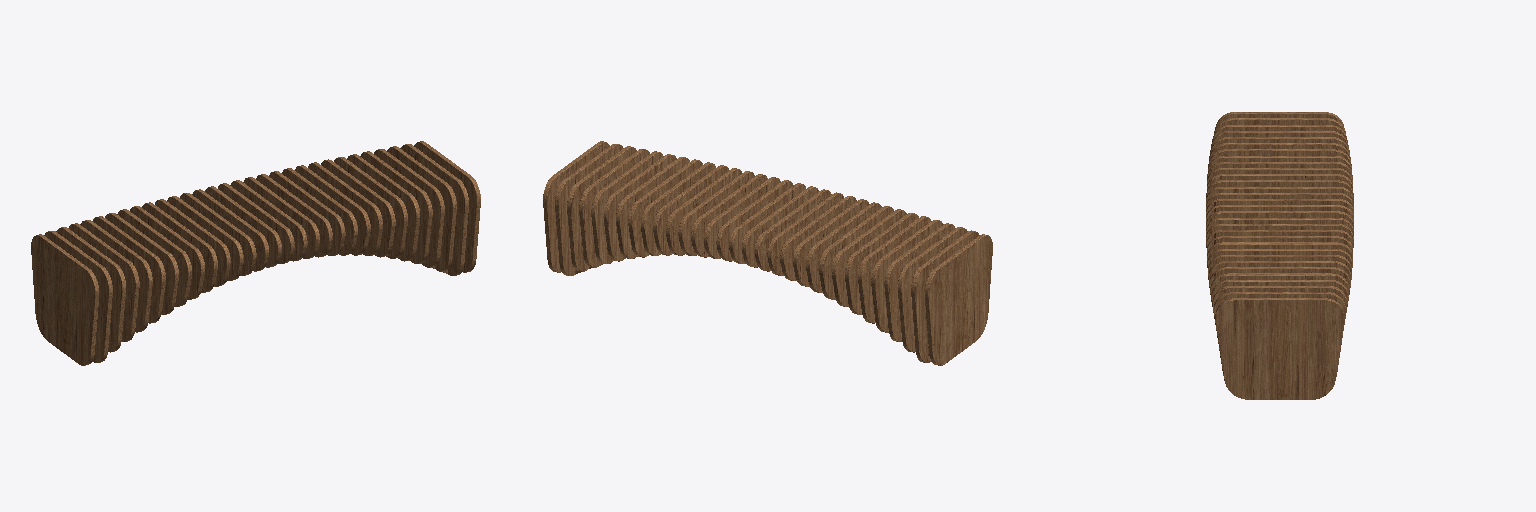
The picture shows the model from 3 angles: view 1: azimuth 30°, elevation 25°; view 2: azimuth 150°, elevation 25°; view 3: azimuth 270°, elevation 25°; orthographic projection.
Visible parts, largest first — view 1: odesd2_B1; view 2: odesd2_B1; view 3: odesd2_B1.
Part boxes in pixels (bbox=[...]): odesd2_B1: bbox=[31, 141, 480, 365]; odesd2_B1: bbox=[543, 141, 992, 365]; odesd2_B1: bbox=[1206, 112, 1353, 399].
Size of the model in its own units: 71.61 by 17.72 by 23.79.
Materials: 1 (1 with a texture image).